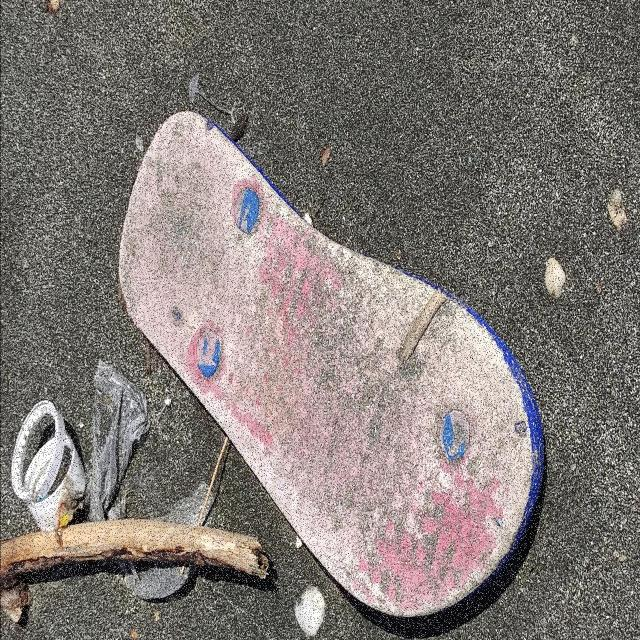plastic_waste: (11, 400, 82, 535)
rubber_waste: (119, 113, 548, 622)
